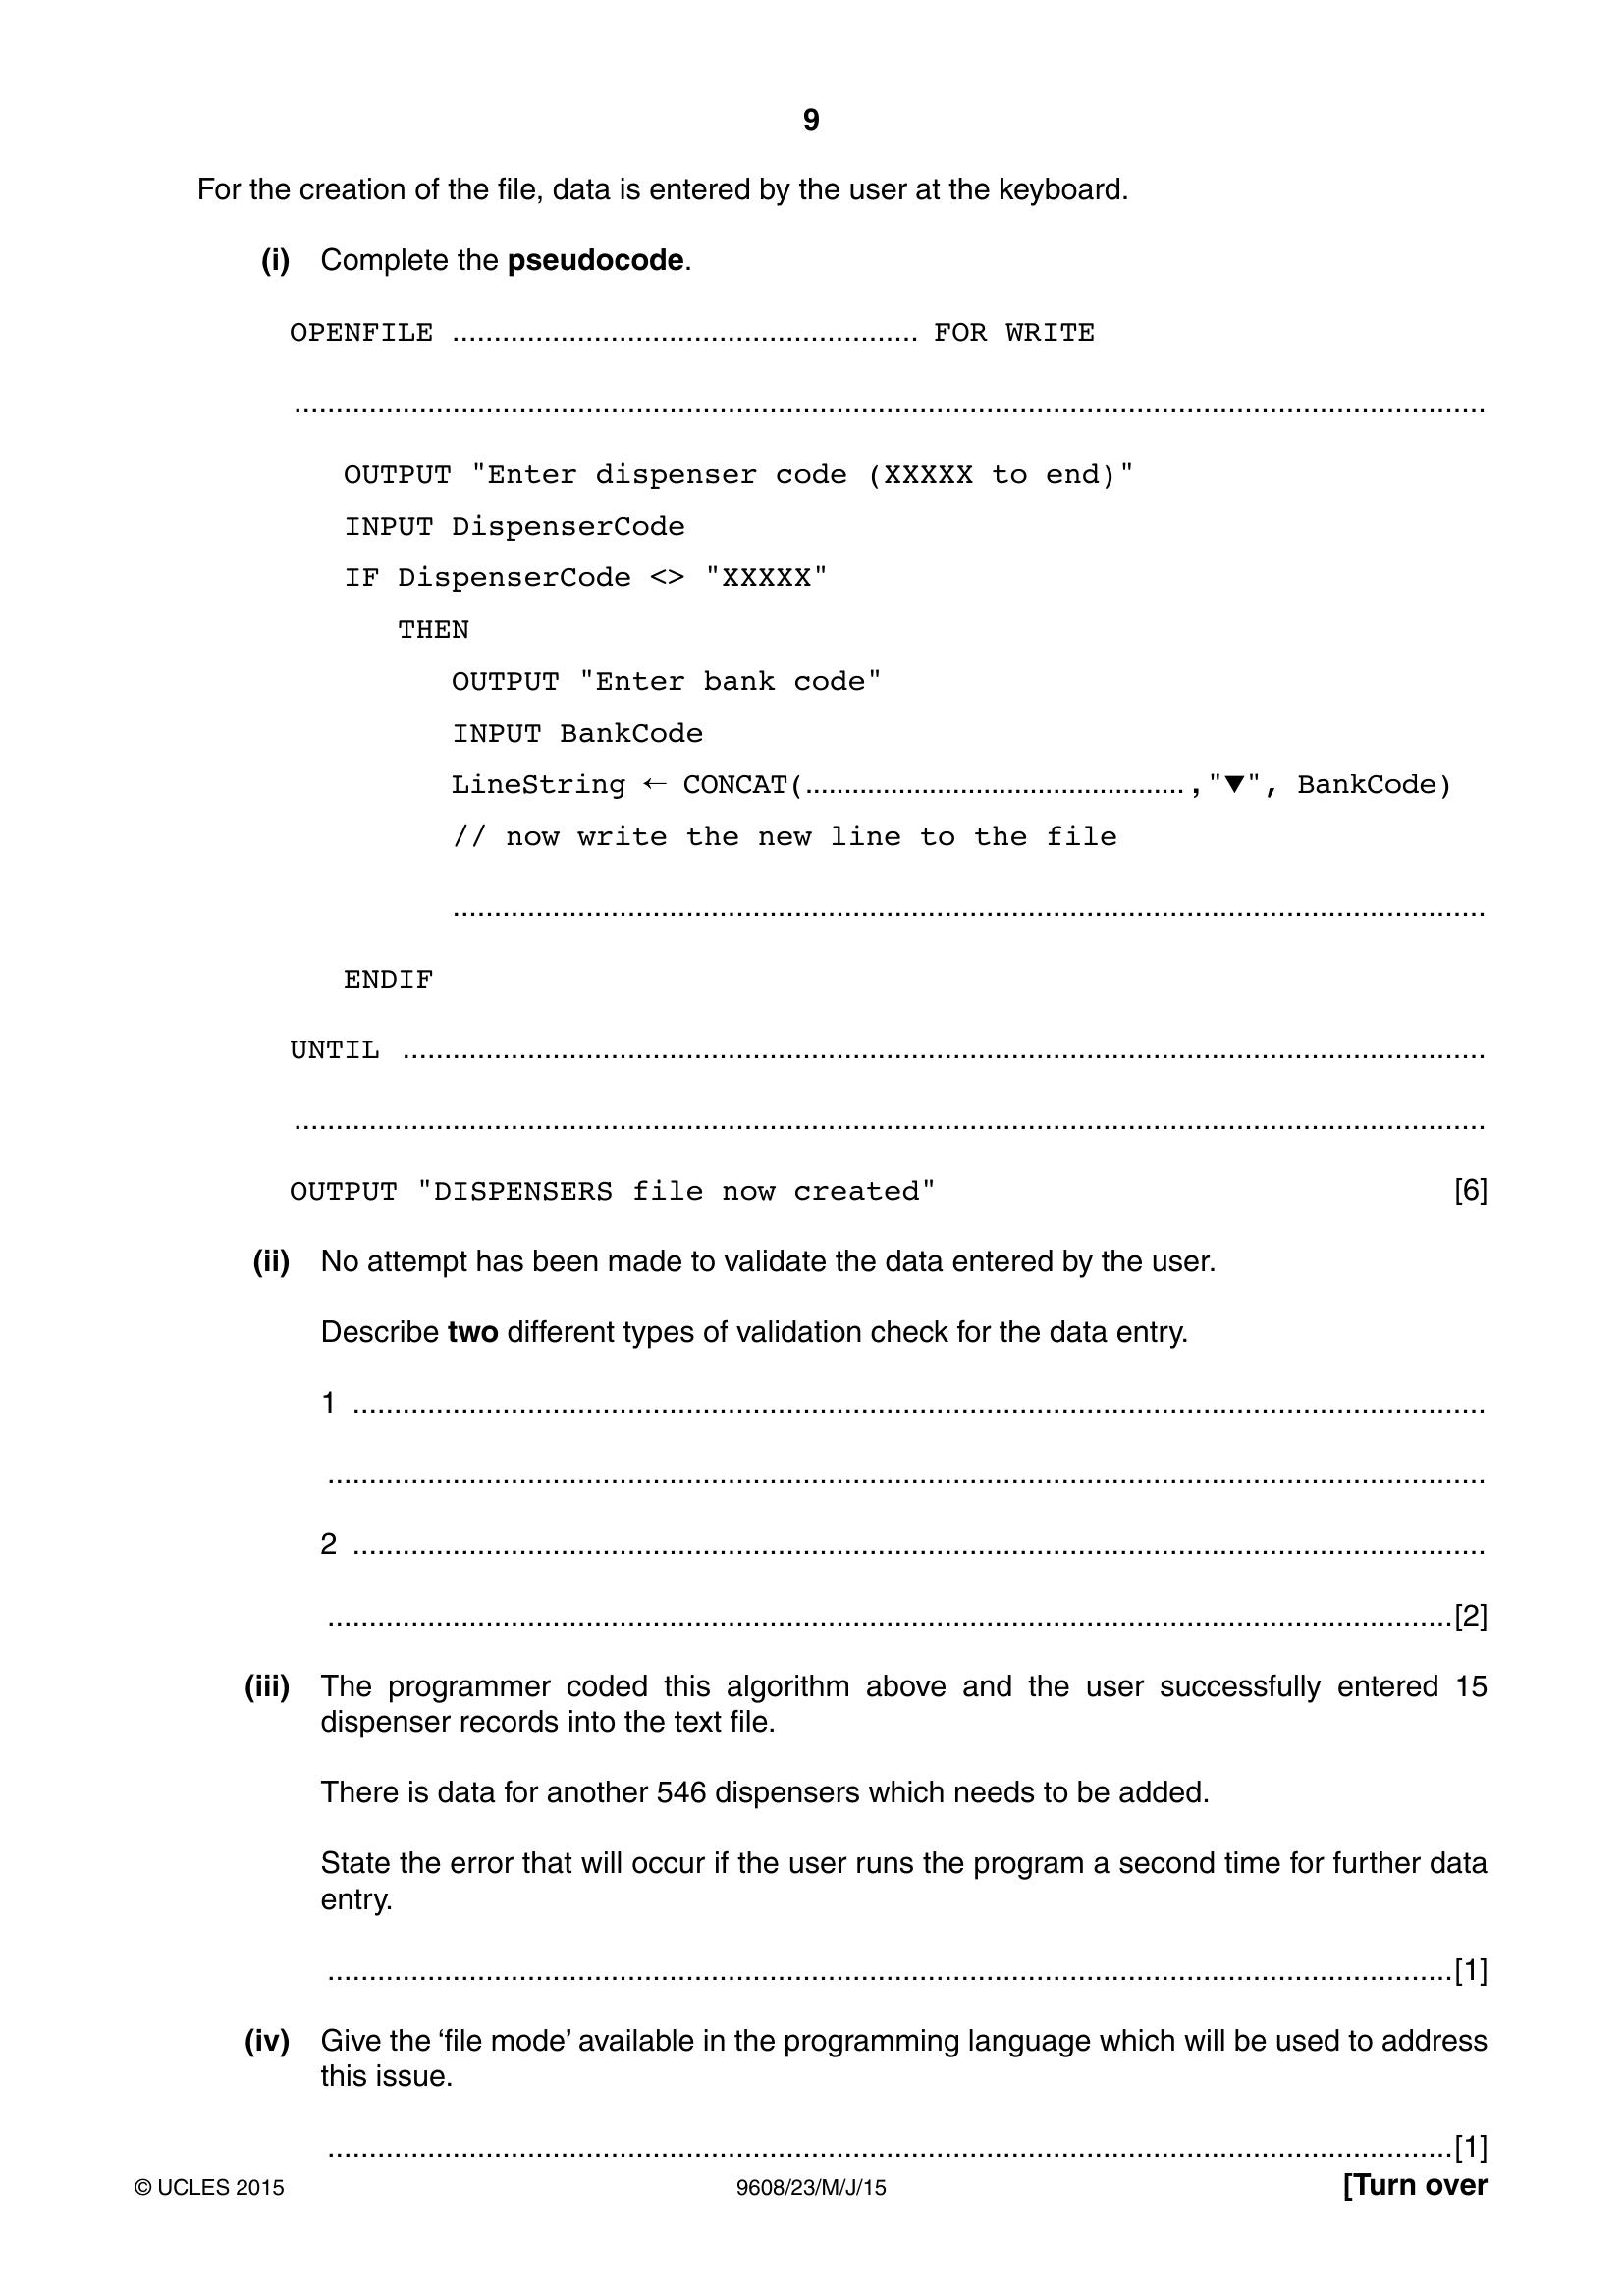continued question: (2, 169, 1624, 2155)
